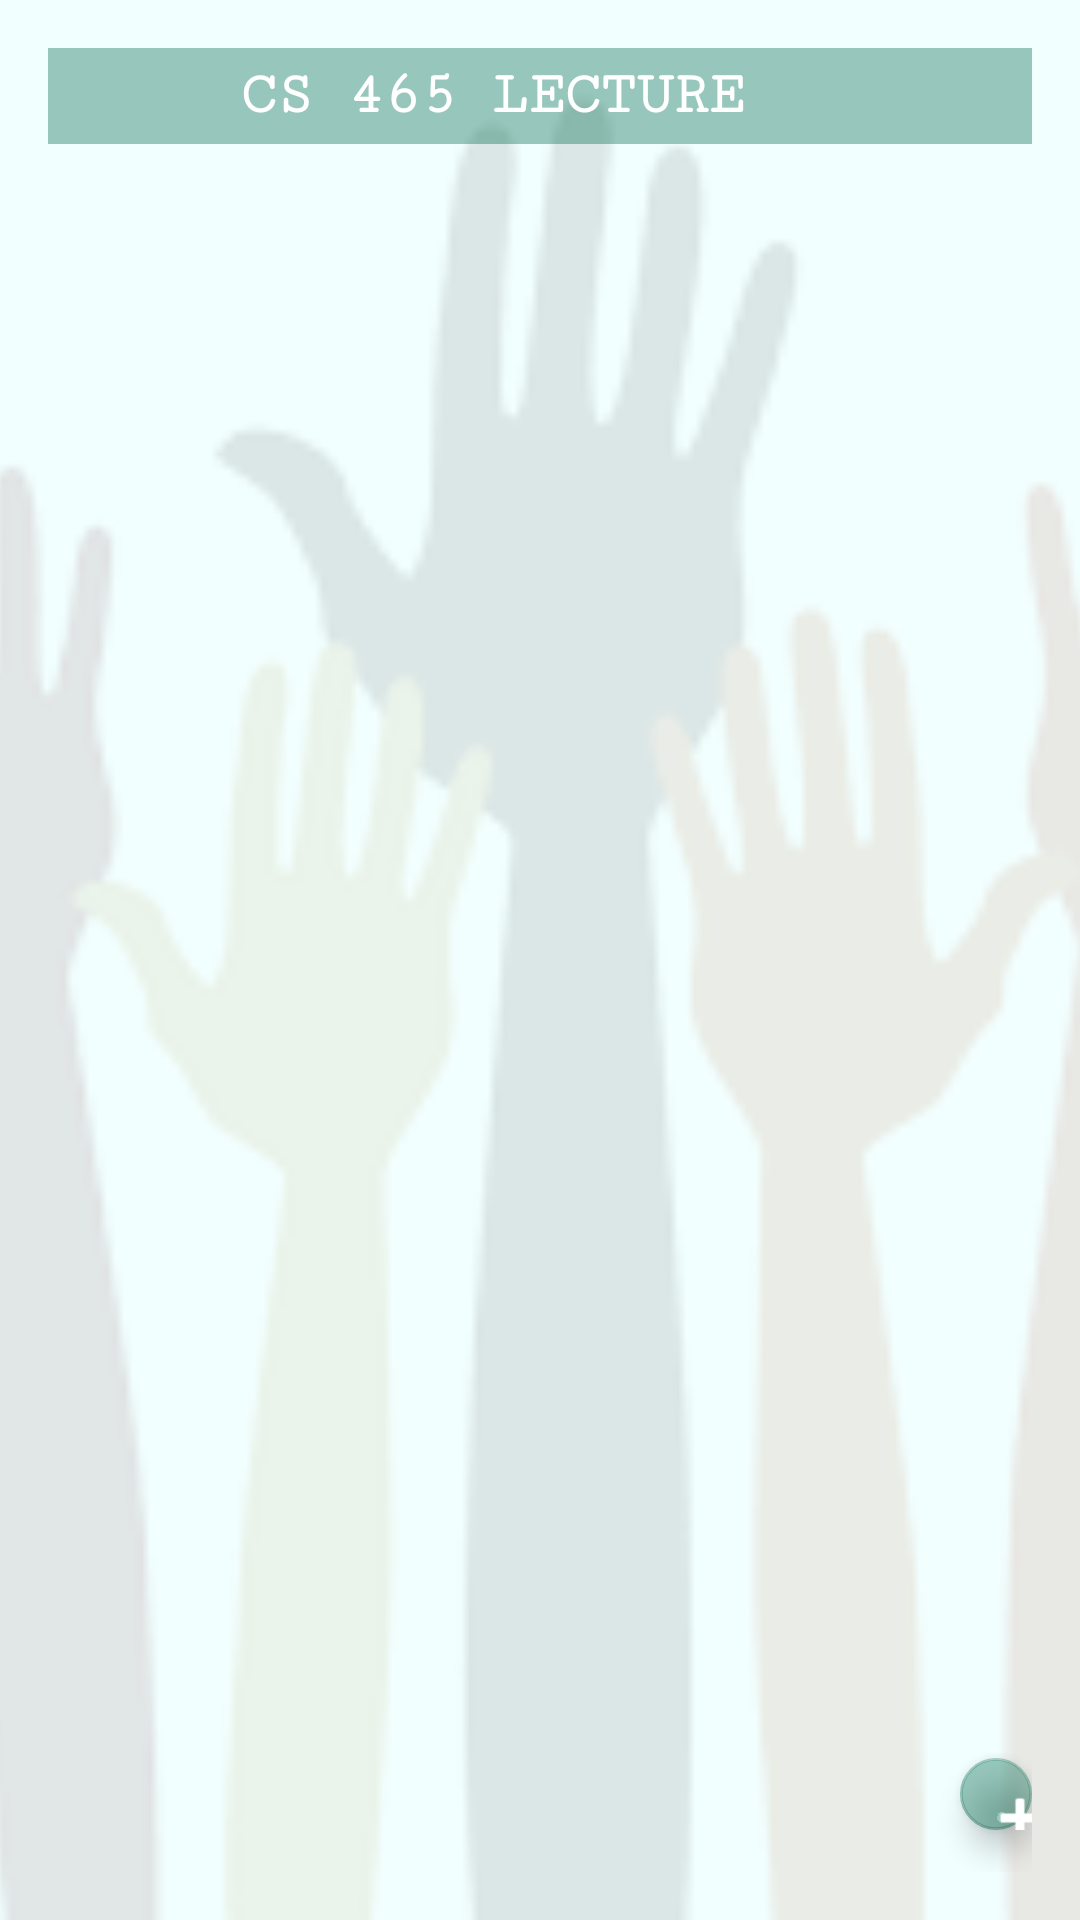

Named icons in this screenshot (1080w x 1920h) and their centers, point (x, y):
add: point (996, 1794)
